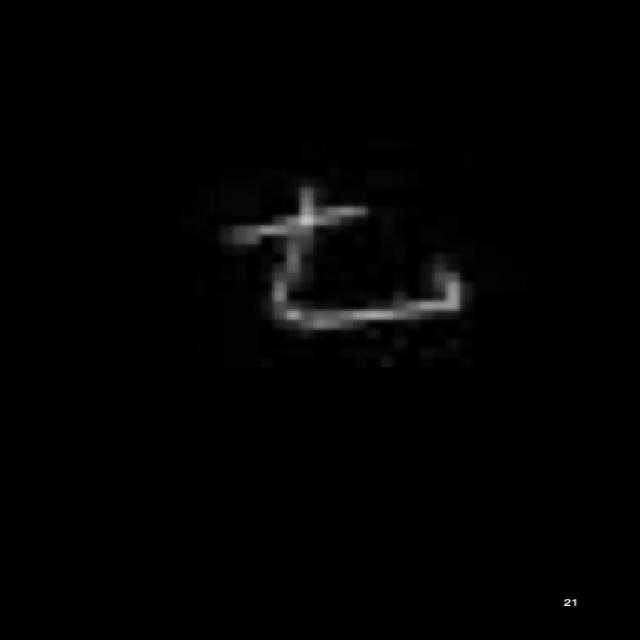7 -seven-: (215, 180, 471, 336)
